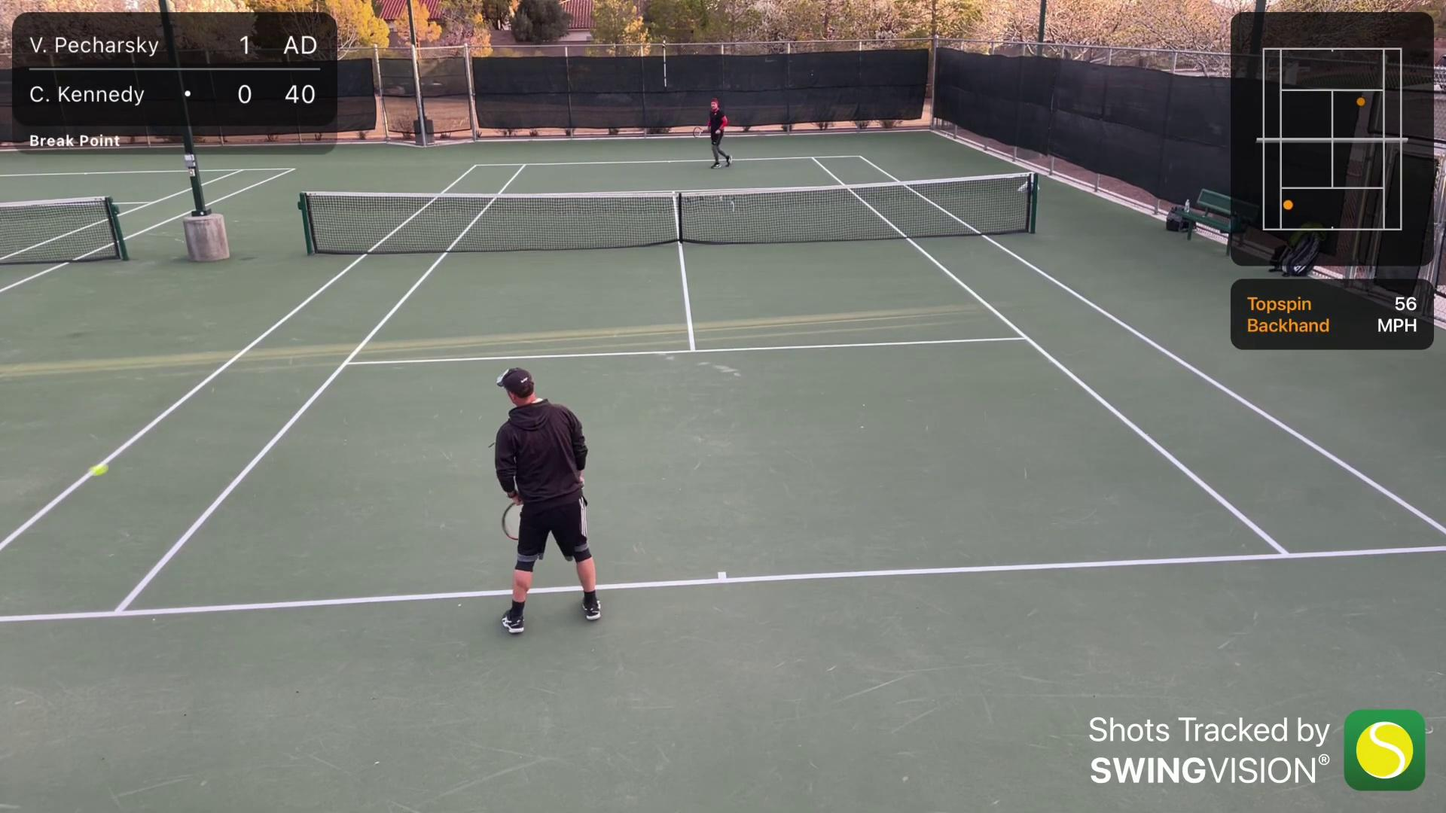ball: (86, 463, 115, 477)
